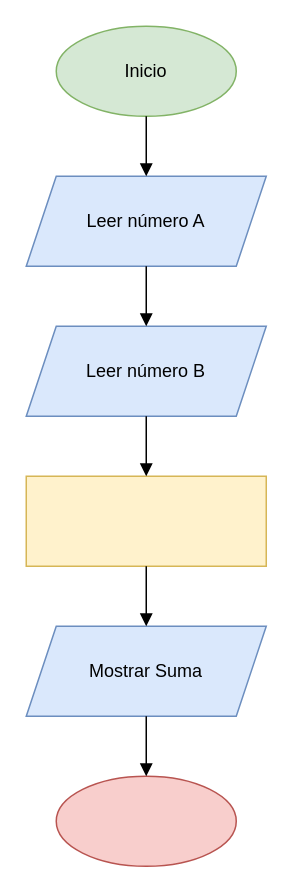
This 293x893 diagram has some shape labels left out. Each missing label, with the centre of its shape:
Fin: point 145,820
Suma = A + B: point 145,520
